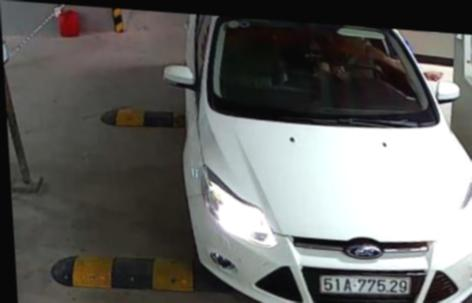License_Plate: (313, 268, 418, 303)
